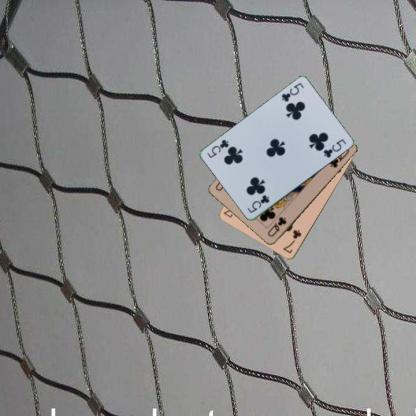5c: (279, 80, 305, 104), (244, 192, 270, 214)
7c: (280, 228, 303, 255)
Qc: (265, 214, 288, 237)
